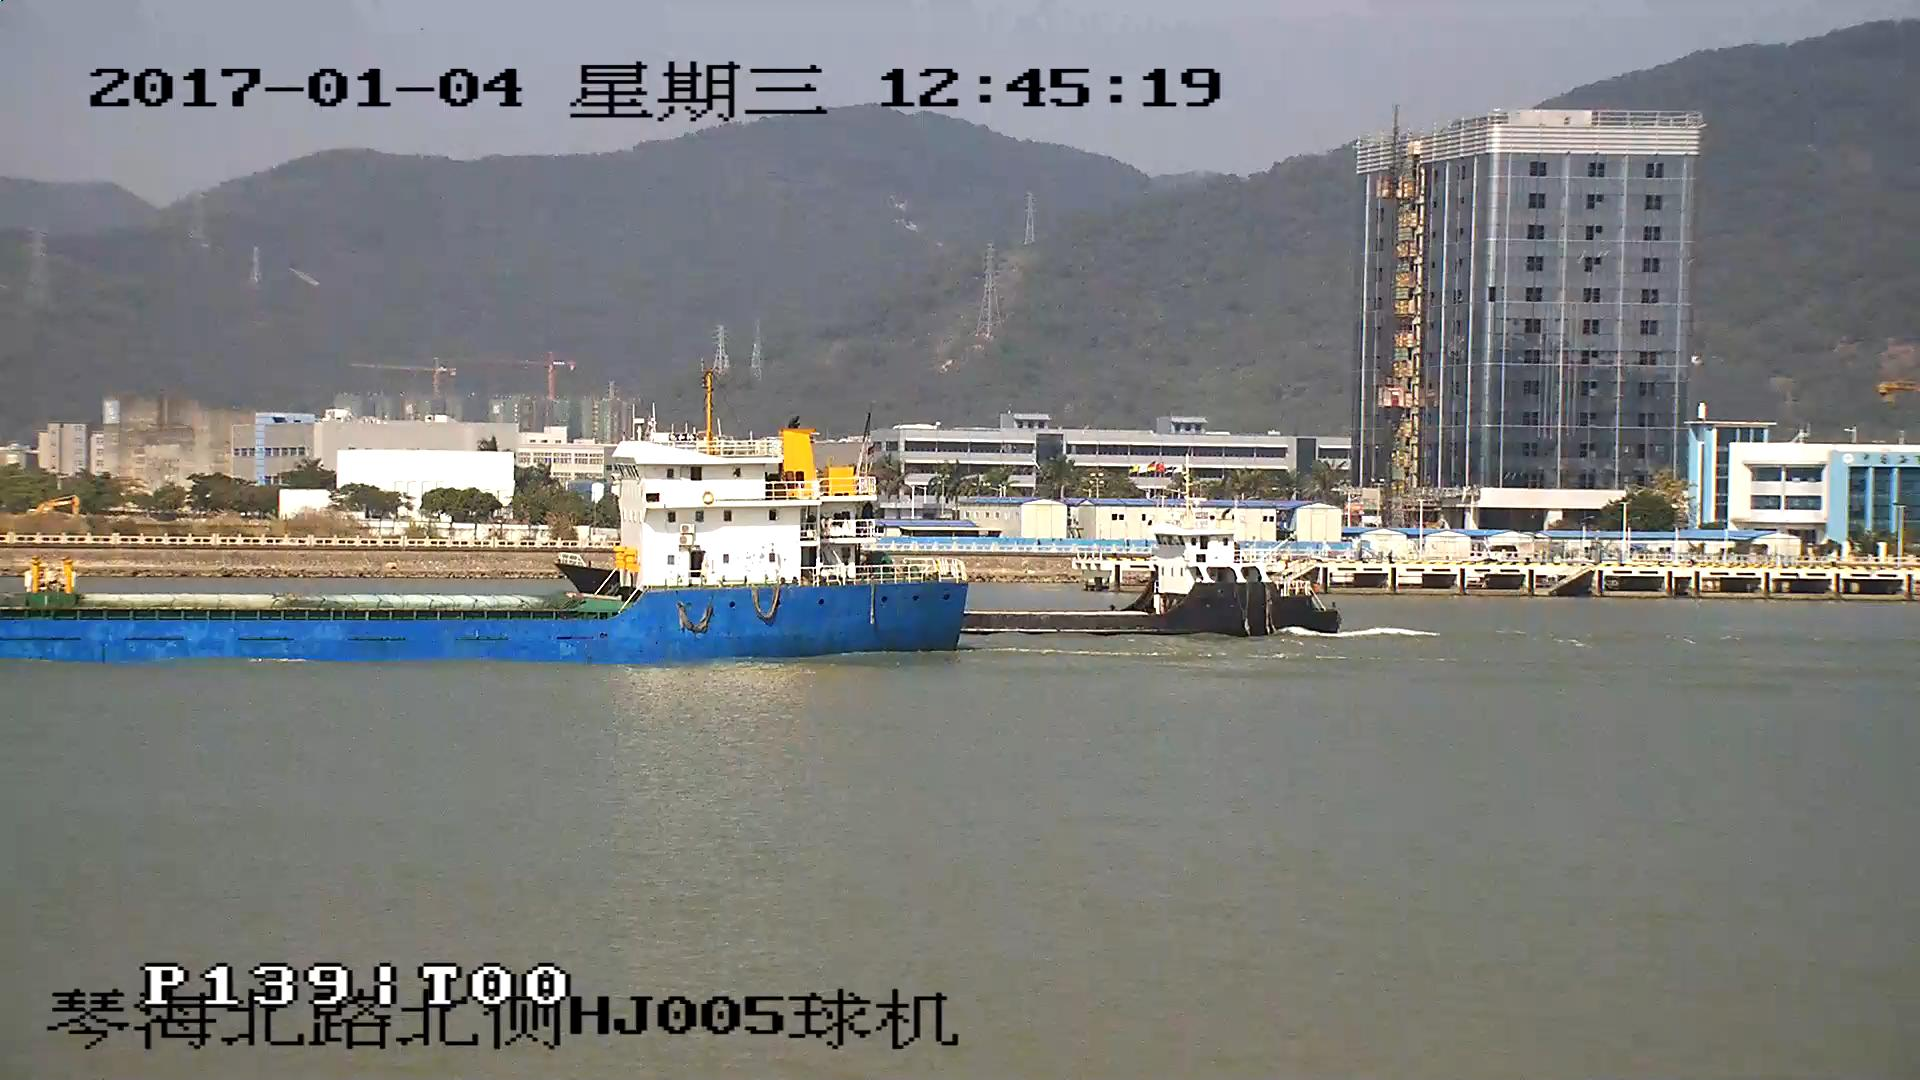general cargo ship: (1, 427, 972, 665), (972, 503, 1347, 642)
